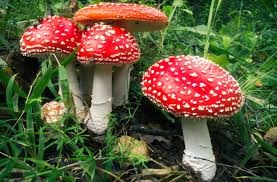Amanita muscaria: (142, 50, 248, 175), (72, 21, 138, 123), (17, 12, 82, 114)
